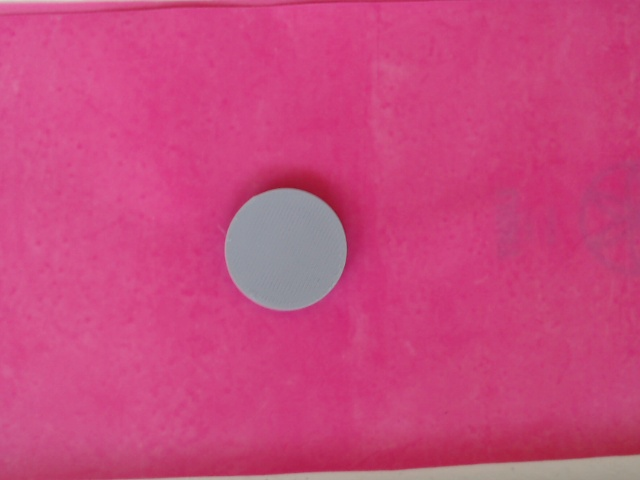NonDefective: (223, 187, 354, 314)
